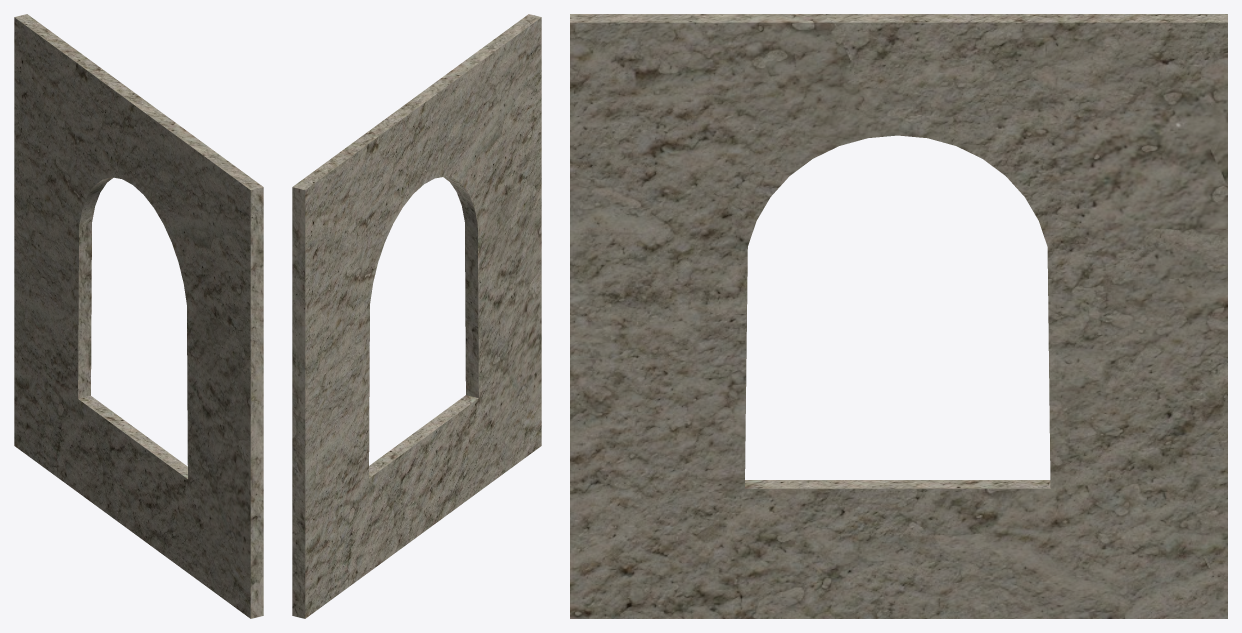
The model's file is Wall_BlankSpot.glb.
The picture shows the model from 3 angles, left to right: view 1: azimuth 30°, elevation 25°; view 2: azimuth 150°, elevation 25°; view 3: azimuth 270°, elevation 25°; orthographic projection. The views are drawn at different scales.
Visible parts, largest first — view 1: Plane; view 2: Plane; view 3: Plane.
Boxes of the visible parts, <box> form: Plane: <box>14,14,263,618</box>; Plane: <box>292,14,541,618</box>; Plane: <box>570,14,1227,618</box>.
Size of the model in its own units: 0.0715 by 2.26 by 2.26.
1 material, 1 textured.
